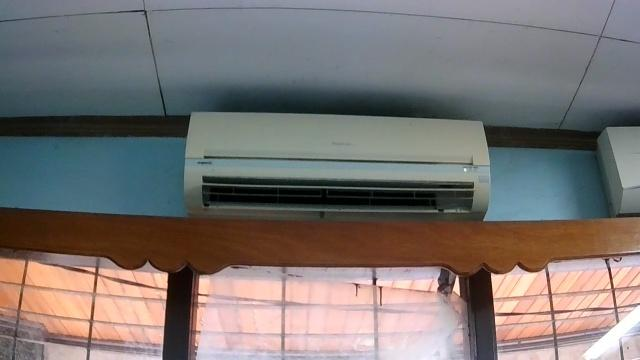AC: (181, 109, 491, 220)
